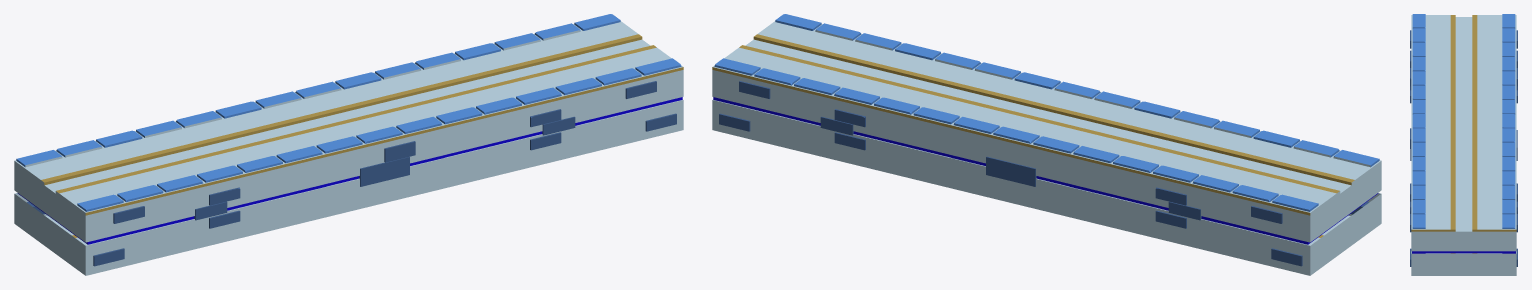
Rendered from Horizontal Platform 8.fbx.
3 views of the same model, side by side, from view 1: azimuth 30°, elevation 25°; view 2: azimuth 150°, elevation 25°; view 3: azimuth 270°, elevation 25° (orthographic). The views are drawn at different scales.
Parts seen in each view (by area): view 1: Cube, Cube.005, Cube.008, Cube.006, Cube.001, Cube.002; view 2: Cube, Cube.005, Cube.008, Cube.006, Cube.001; view 3: Cube, Cube.008, Cube.006, Cube.005, Cube.001.
Part boxes in pixels (bbox=[...]): Cube: bbox=[14, 14, 683, 275]; Cube.005: bbox=[194, 109, 575, 228]; Cube.008: bbox=[17, 97, 682, 244]; Cube.006: bbox=[27, 81, 676, 266]; Cube.001: bbox=[359, 157, 409, 186]; Cube.002: bbox=[384, 141, 415, 162]; Cube: bbox=[712, 14, 1381, 275]; Cube.005: bbox=[820, 109, 1201, 228]; Cube.008: bbox=[713, 97, 1378, 244]; Cube.006: bbox=[719, 81, 1368, 266]; Cube.001: bbox=[986, 156, 1036, 186]; Cube: bbox=[1411, 14, 1516, 275]; Cube.008: bbox=[1412, 251, 1515, 253]; Cube.006: bbox=[1410, 30, 1517, 266]; Cube.005: bbox=[1410, 68, 1517, 213]; Cube.001: bbox=[1410, 130, 1517, 160].
Bounding box in the file's own units: 1983 × 206 × 422.
